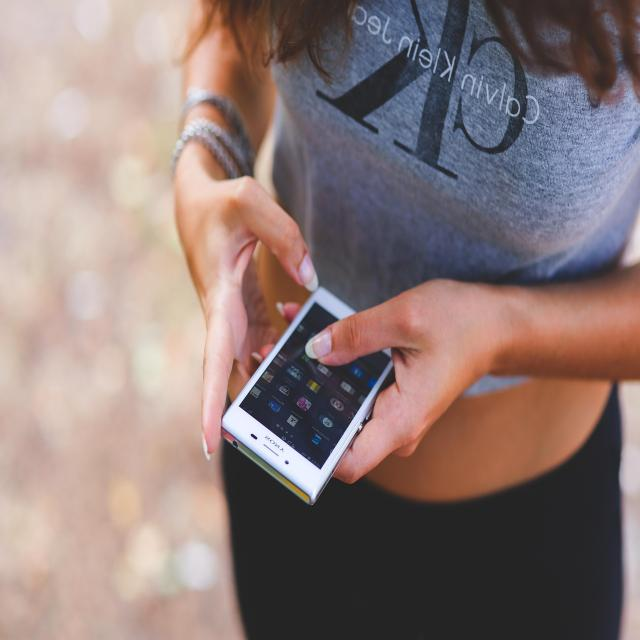Mobile: (213, 250, 414, 532)
